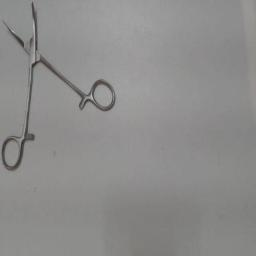Crile Artery Forceps: (1, 0, 117, 176)
